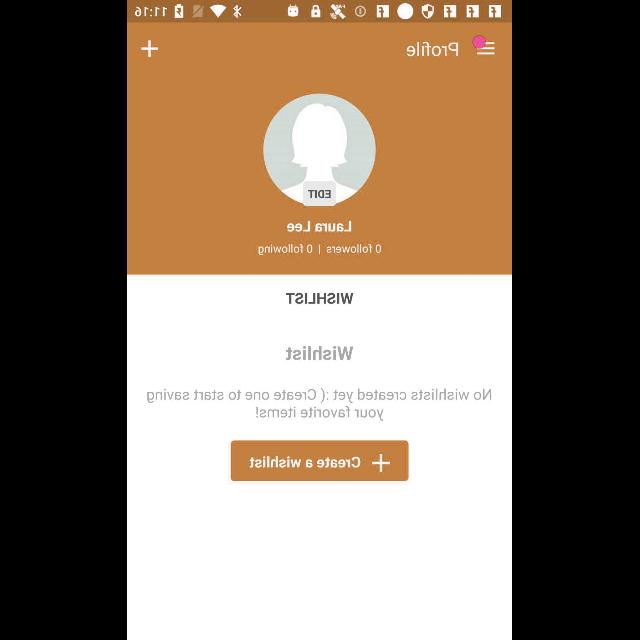icon: (264, 94, 376, 206), (473, 35, 495, 55), (142, 41, 158, 58)
text: (148, 388, 492, 422), (258, 244, 382, 256), (286, 346, 354, 360), (286, 292, 354, 304), (288, 220, 352, 232), (407, 42, 459, 56)
textbutton: (231, 441, 409, 482)
uppertaskbar: (128, 1, 512, 23)
